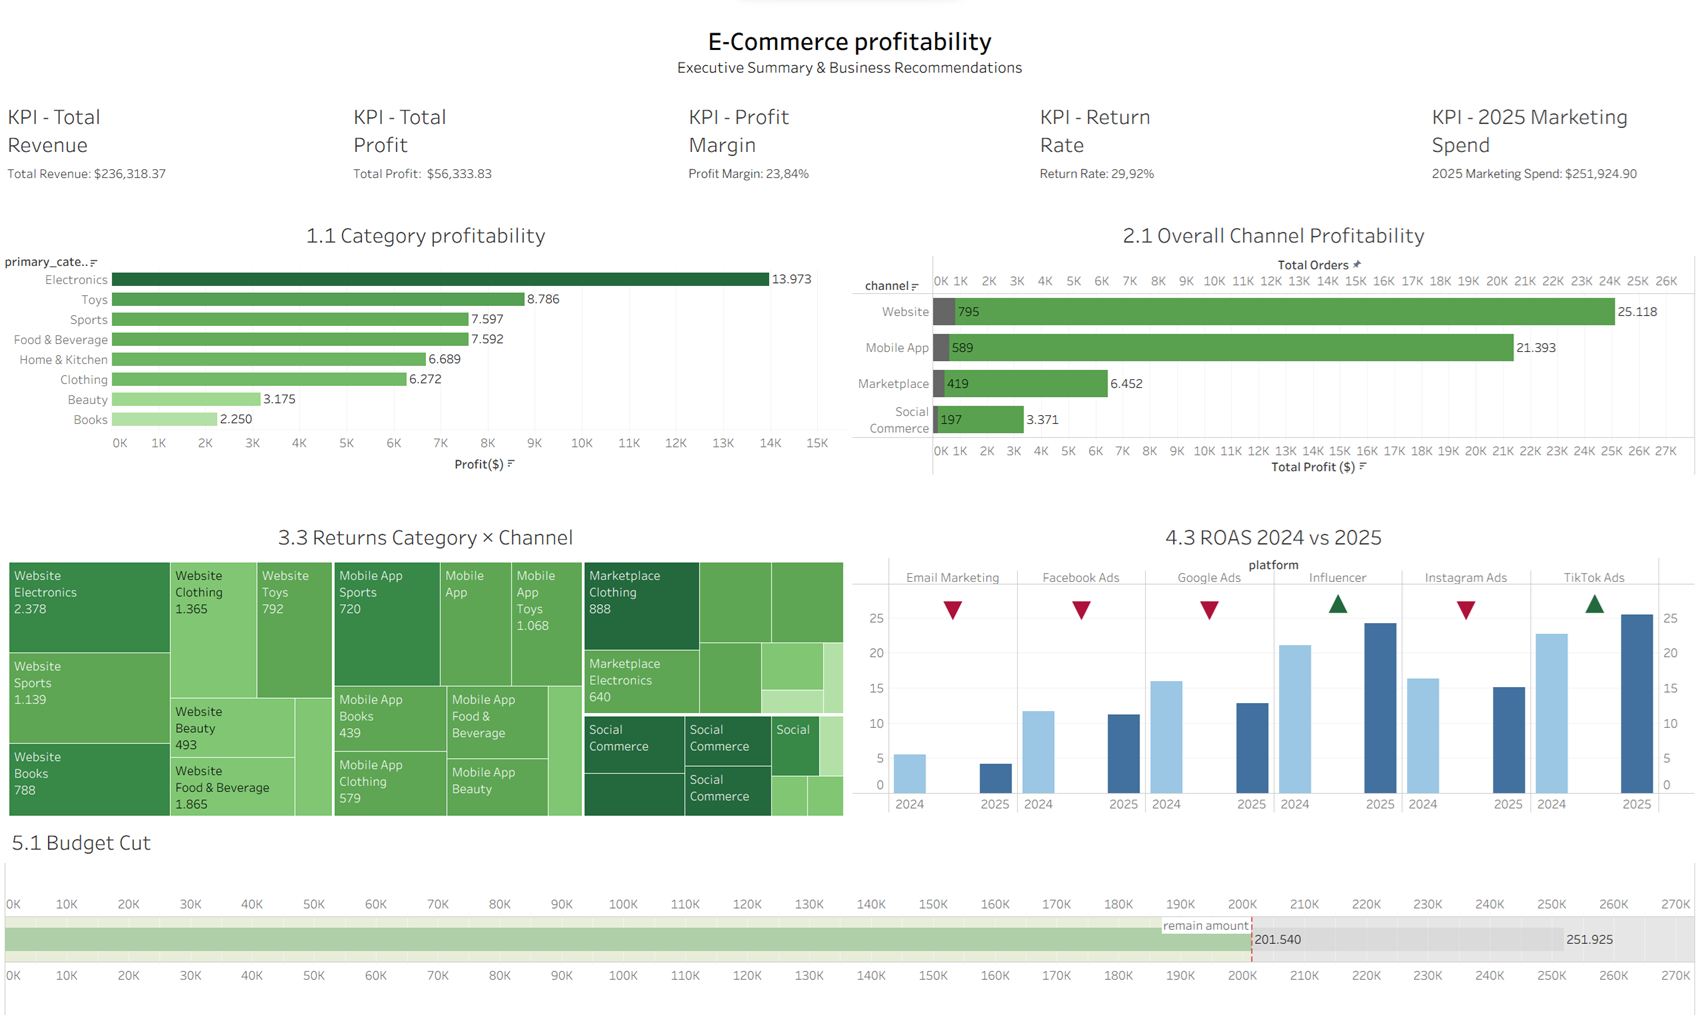

What the dashboard file says about the page in this screenshot:
{"tool":"tableau","page":{"name":"E-Commerce profitability","canvas":[1000,1000],"units":"permille","ordinal":2},"visuals":[{"type":"text","box":[3.6,5.7,992.9,88.7]},{"type":"worksheet","title":"KPI - Total Revenue","mark":"Automatic","box":[3.6,94.4,202.7,114.5]},{"type":"worksheet","title":"KPI - Total Profit","mark":"Automatic","box":[206.2,94.4,196.1,114.5]},{"type":"worksheet","title":"KPI - Profit Margin","mark":"Automatic","box":[402.4,94.4,205.9,114.5]},{"type":"worksheet","title":"KPI - Return Rate","mark":"Automatic","box":[608.2,94.4,229.5,114.5]},{"type":"worksheet","title":"KPI - 2025 Marketing Spend","mark":"Automatic","box":[837.7,94.4,158.7,114.5]},{"type":"worksheet","title":"1.1 Category profitability","mark":"Bar","rows":["primary_category"],"cols":["profit"],"box":[3.6,208.9,496.4,291.1]},{"type":"worksheet","title":"2.1 Overall Channel Profitability","mark":"Bar","rows":["channel"],"cols":["total_profit","total_orders"],"box":[500,208.9,496.4,291.1]},{"type":"worksheet","title":"3.3 Returns Category × Channel","mark":"Automatic","box":[3.6,500,496.4,294]},{"type":"worksheet","title":"4.3 ROAS 2024 vs 2025","mark":"Automatic","rows":["Calculation_0855453837836298"],"cols":["platform"],"box":[500,500,496.4,294]},{"type":"worksheet","title":" 5.1 Budget Cut ","mark":"Bar","box":[3.6,794,992.9,200.3]}]}

Visuals, with their boxes on the dashboard's canvas, which has no fixed pixel size, in thousandths of its width and height (x1, y1, x2, y2). These are canvas units, not pixel positions in the 1703x1029 screenshot, which may show the page scaled, cropped or inside an application window:
text: 4, 6, 996, 94
"KPI - Total Revenue" worksheet: 4, 94, 206, 209
"KPI - Total Profit" worksheet: 206, 94, 402, 209
"KPI - Profit Margin" worksheet: 402, 94, 608, 209
"KPI - Return Rate" worksheet: 608, 94, 838, 209
"KPI - 2025 Marketing Spend" worksheet: 838, 94, 996, 209
"1.1 Category profitability" worksheet (Bar marks): 4, 209, 500, 500
"2.1 Overall Channel Profitability" worksheet (Bar marks): 500, 209, 996, 500
"3.3 Returns Category × Channel" worksheet: 4, 500, 500, 794
"4.3 ROAS 2024 vs 2025" worksheet: 500, 500, 996, 794
" 5.1 Budget Cut " worksheet (Bar marks): 4, 794, 996, 994
